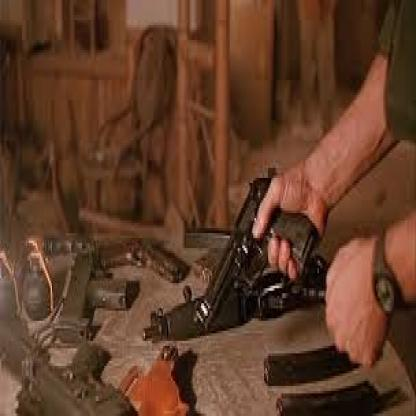Grenade: (22, 234, 56, 321), (0, 243, 22, 321)
Gun: (141, 252, 330, 346), (0, 299, 136, 416), (53, 238, 130, 346)
Pistol: (191, 162, 317, 334), (98, 233, 190, 288)
